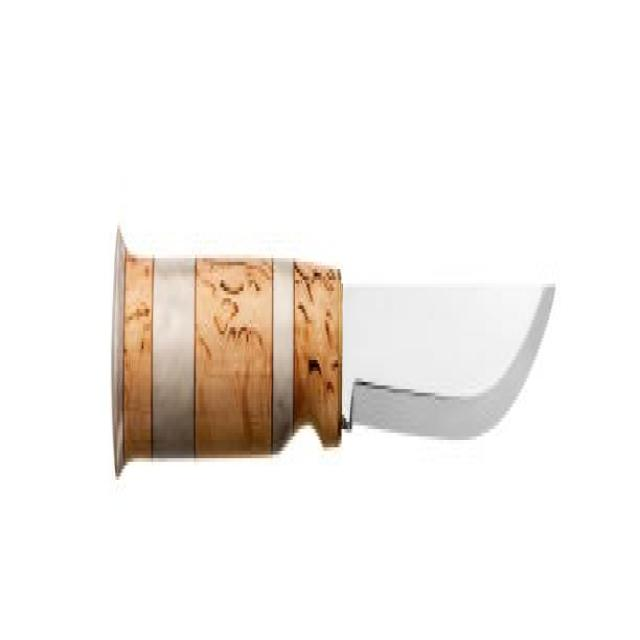knife: (106, 191, 567, 512)
